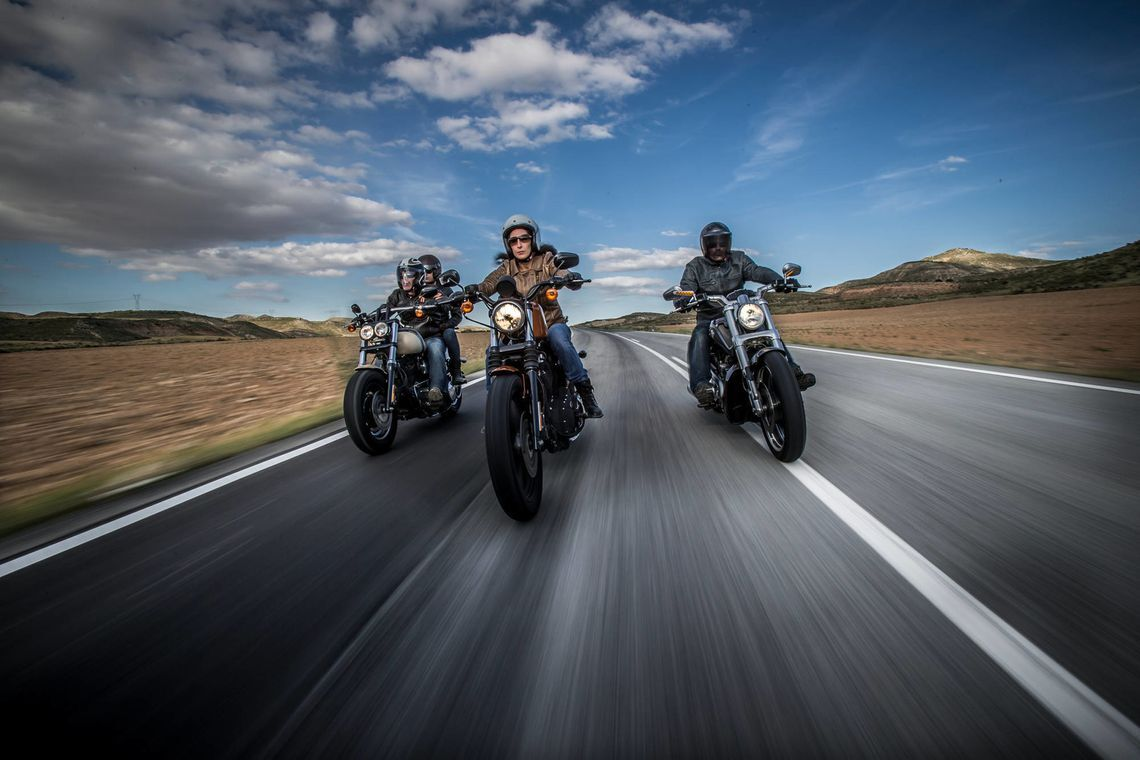Motorcycle: (458, 281, 619, 525), (661, 275, 842, 461), (346, 294, 474, 454)
